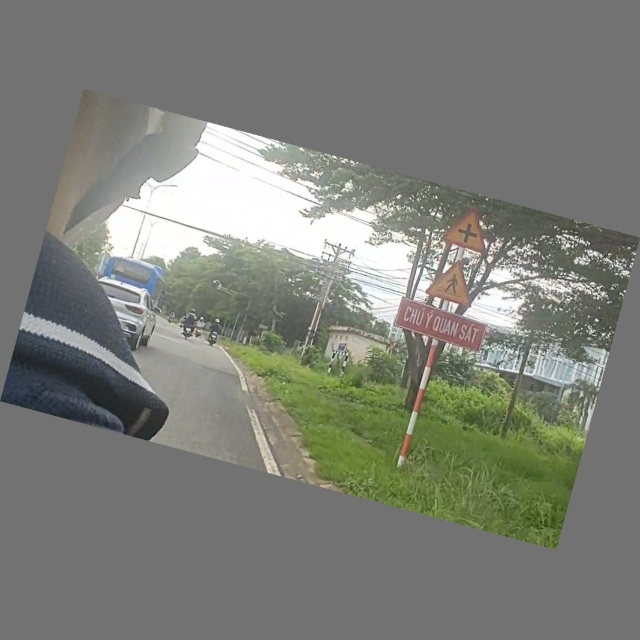W.205a: (440, 202, 507, 260)
W.224: (423, 253, 486, 310)
